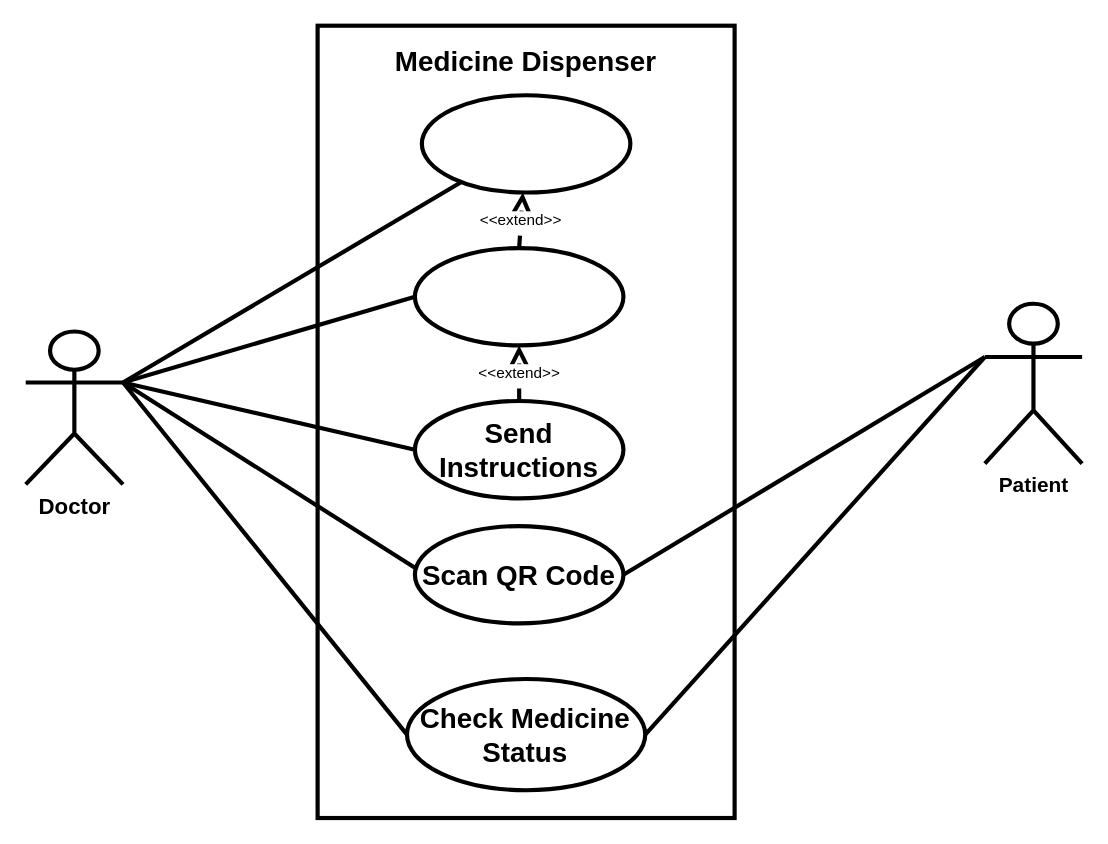
The diagram is 1108 pixels wide and 844 high, and some of its shapes have lost their labels. Here are the shapes that lost their labels. From the top down, the centre of each, then its label:
At pixel 525 143: "Prescribe".
At pixel 518 296: "Create QR Code".
